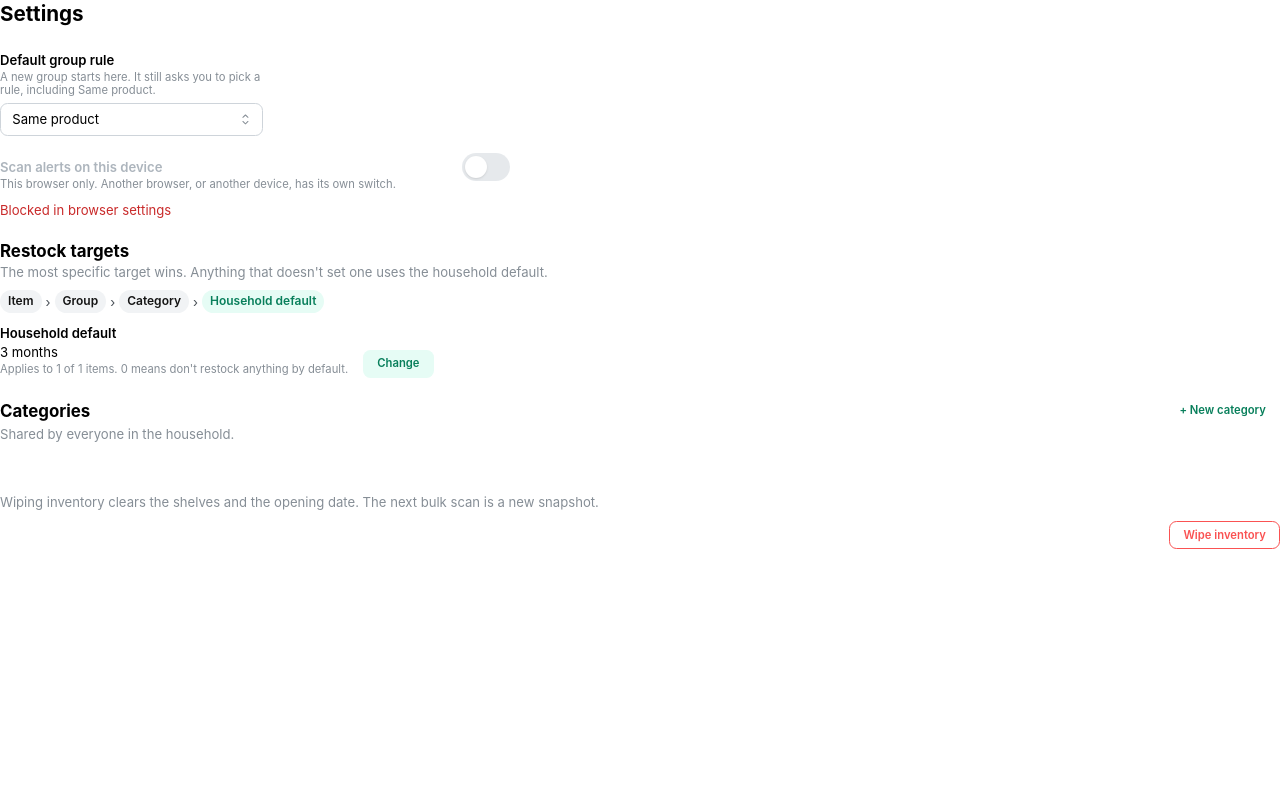
Test: SettingsPage › keeps the page up when a wipe is rejected
Click the button "Wipe inventory". click: (1225, 535)
box: [1169,521,1279,549]
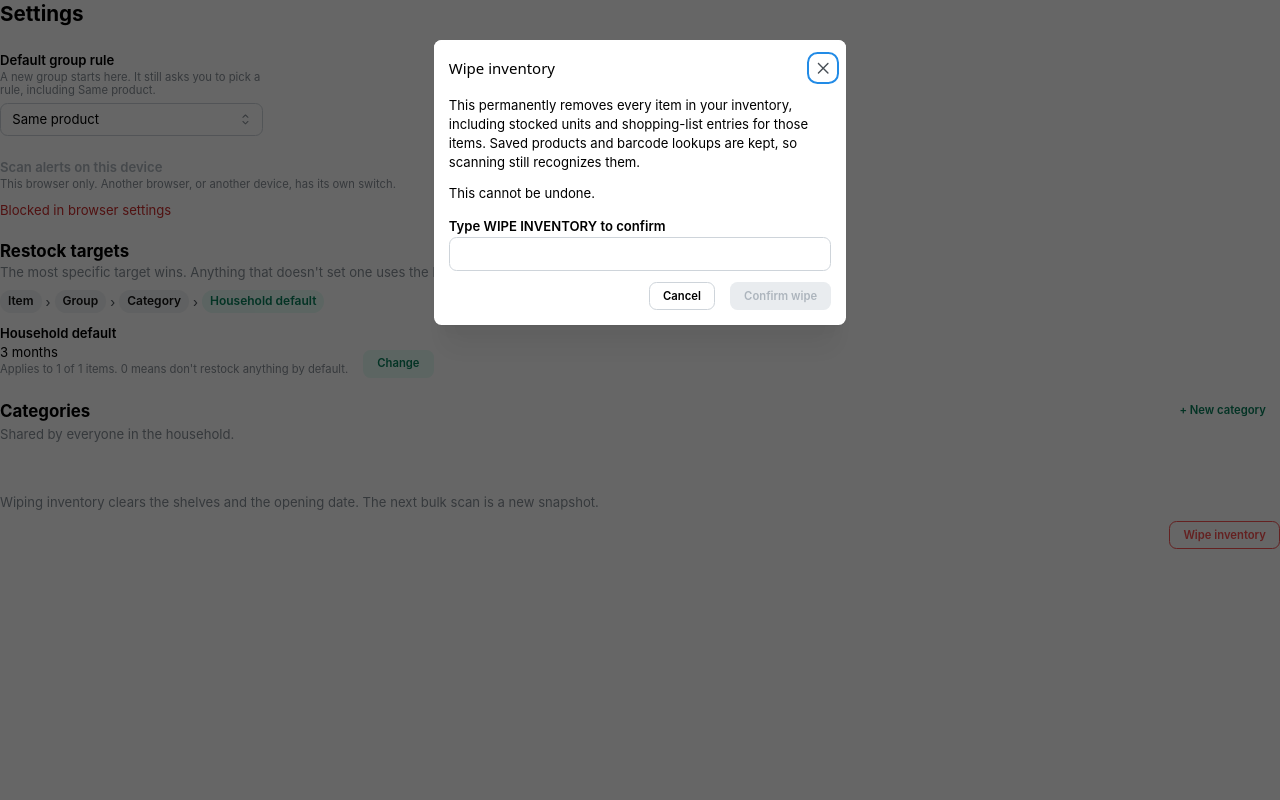
Type "WIPE INVENTORY" into the field labelled "Type WIPE INVENTORY to confirm". click: (640, 254)
box: [449,237,831,271]
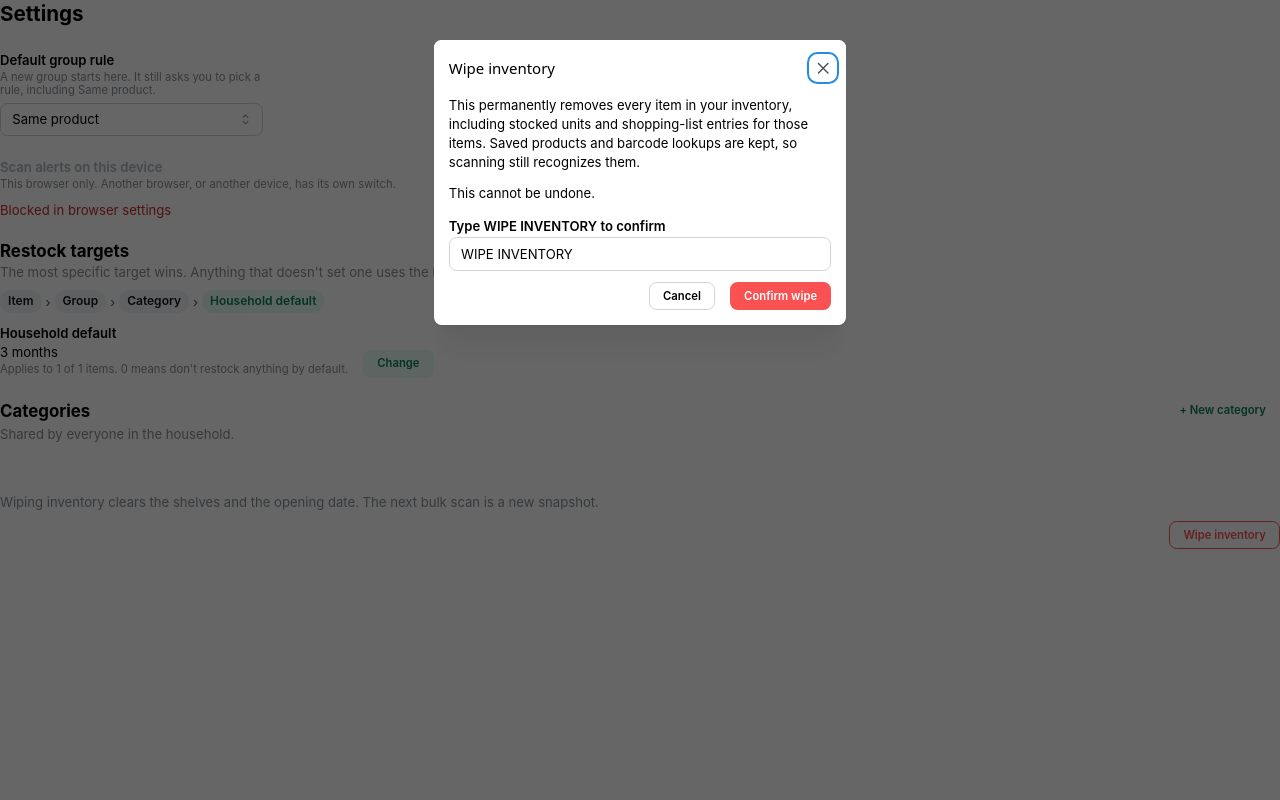
Click the button "Confirm wipe". click: (781, 296)
box: [730,282,831,310]
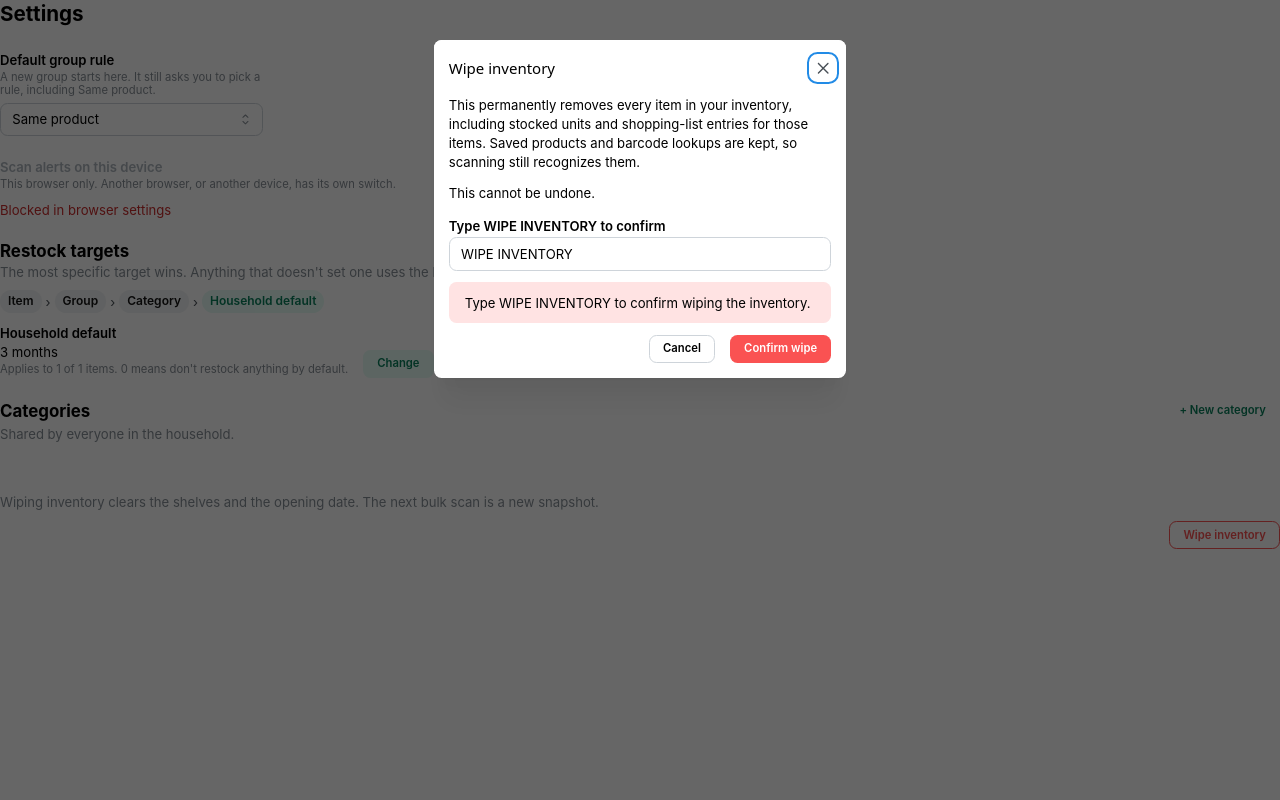
Expected: the text "Household default" is shown, [202,290,324,313]
Expected: the text "Type WIPE INVENTORY to confirm wiping the inventory." is shown, [465,292,815,313]
